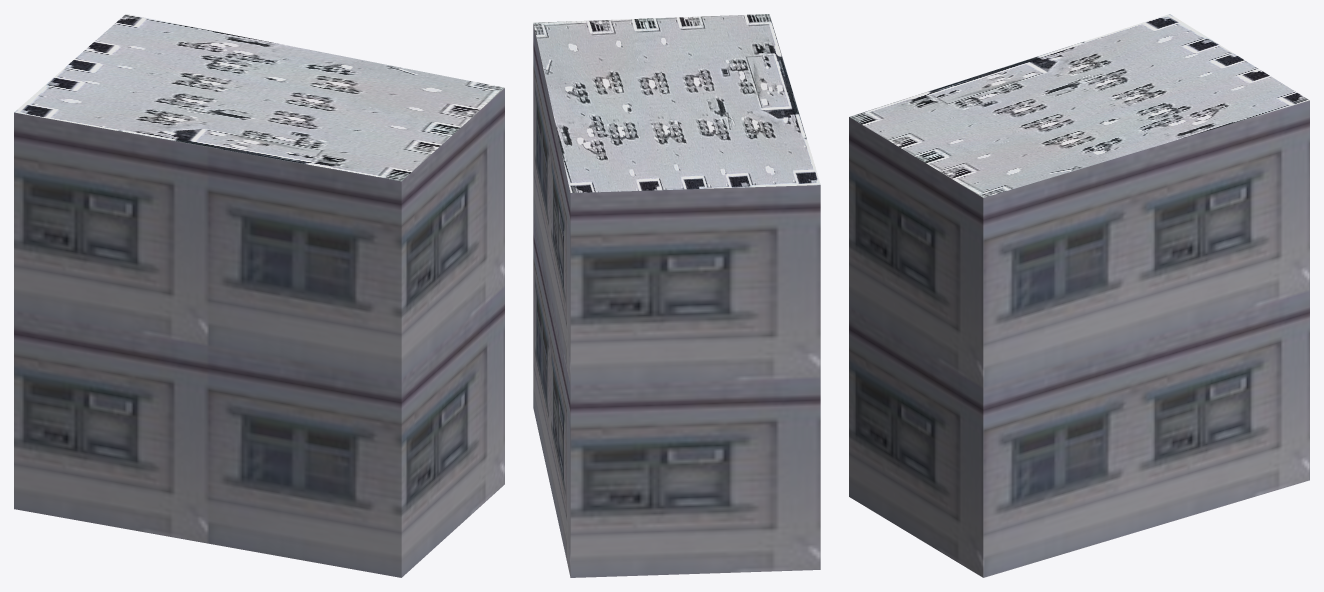
Rendered from ResTex__2795.fbx.
The picture shows the model from 3 angles, left to right: view 1: azimuth 30°, elevation 25°; view 2: azimuth 150°, elevation 25°; view 3: azimuth 270°, elevation 25°; orthographic projection. The views are drawn at different scales.
Parts seen in each view (by area): view 1: CityEngineMaterial_1_m, CityEngineMaterial_8_m; view 2: CityEngineMaterial_1_m, CityEngineMaterial_8_m; view 3: CityEngineMaterial_1_m, CityEngineMaterial_8_m.
Part boxes in pixels (bbox=[...]): CityEngineMaterial_1_m: bbox=[14, 88, 504, 577]; CityEngineMaterial_8_m: bbox=[14, 14, 504, 181]; CityEngineMaterial_1_m: bbox=[533, 24, 820, 577]; CityEngineMaterial_8_m: bbox=[533, 14, 820, 192]; CityEngineMaterial_1_m: bbox=[849, 100, 1309, 577]; CityEngineMaterial_8_m: bbox=[849, 14, 1309, 197].
Size of the model in its own units: 6.23 by 6 by 6.59.
2 materials, 2 textured.
